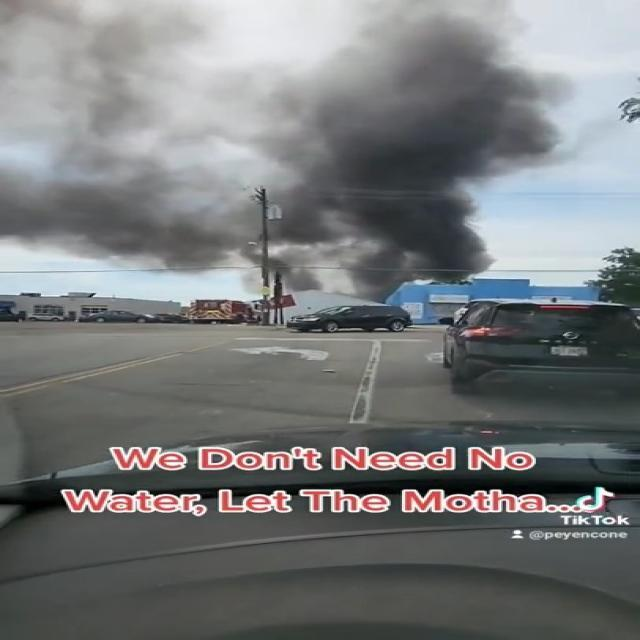Smoke: (230, 16, 576, 278)
